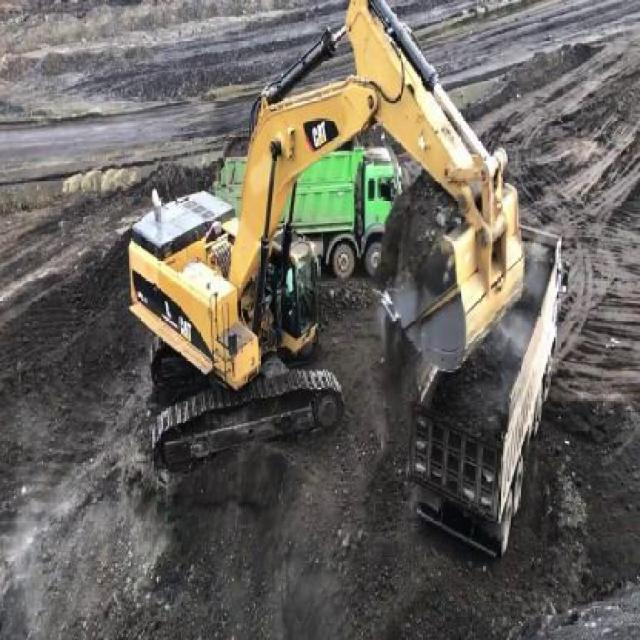Dump Truck: (413, 220, 561, 562), (284, 146, 399, 274)
Excavator: (124, 0, 529, 478)
